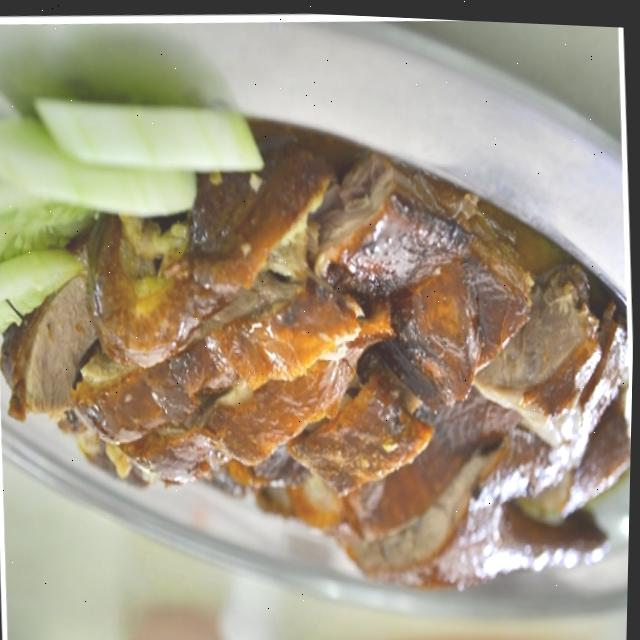烧串烤肉: (0, 51, 639, 640)
